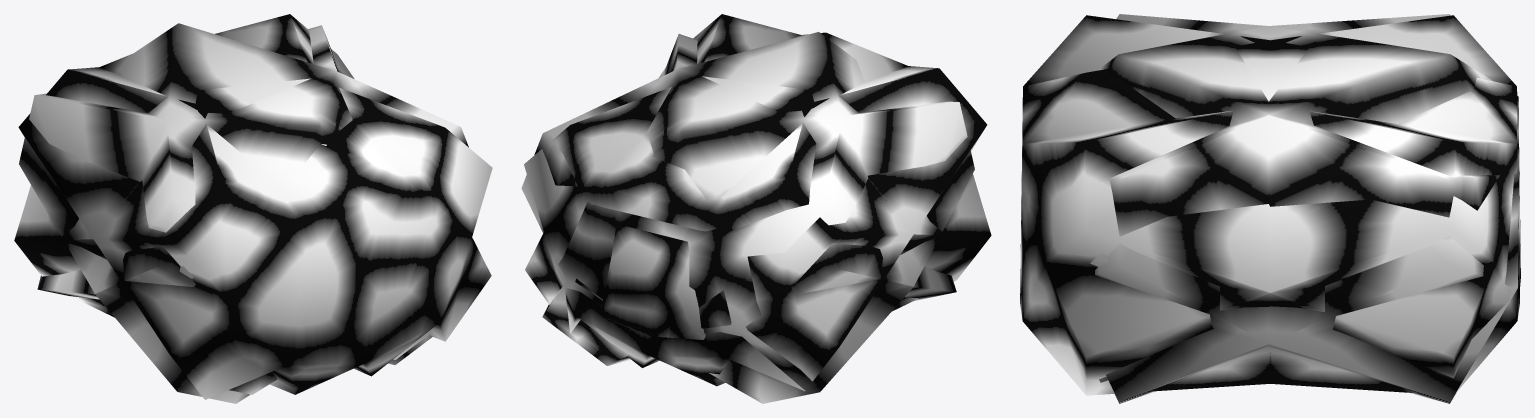
Rendered from rock_oneSide.fbx.
3 renders of one model, left to right at view 1: azimuth 30°, elevation 25°; view 2: azimuth 150°, elevation 25°; view 3: azimuth 270°, elevation 25°, orthographic. The views are drawn at different scales.
Visible parts, largest first — view 1: Rock02, Rock04, Rock03; view 2: Rock02, Rock04, Rock01, Rock03; view 3: Rock02, Rock04.
Part boxes in pixels (left/top/right/bottom): Rock02: left=14, top=14, right=492, bottom=399; Rock04: left=19, top=23, right=468, bottom=403; Rock03: left=179, top=144, right=430, bottom=394; Rock02: left=524, top=14, right=991, bottom=391; Rock04: left=521, top=32, right=974, bottom=403; Rock01: left=600, top=224, right=705, bottom=339; Rock03: left=575, top=278, right=731, bottom=328; Rock02: left=1020, top=15, right=1519, bottom=395; Rock04: left=1095, top=14, right=1518, bottom=403.
Bounding box in the file's own units: 1.39 × 1.05 × 1.55.
